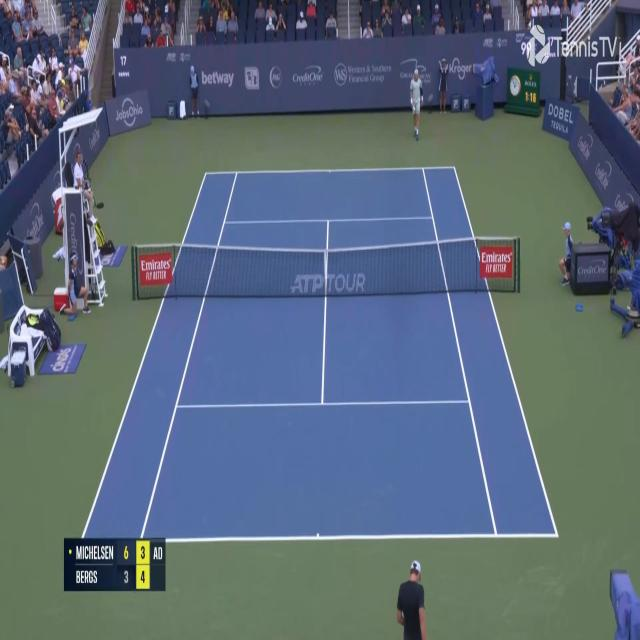tennis-player: (394, 558, 429, 640), (409, 68, 422, 141)
